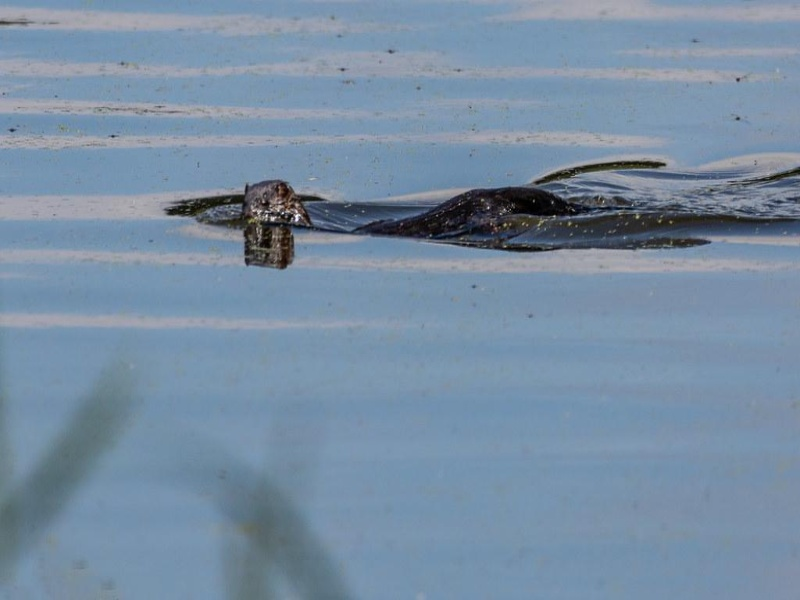minkish: (236, 180, 625, 227)
